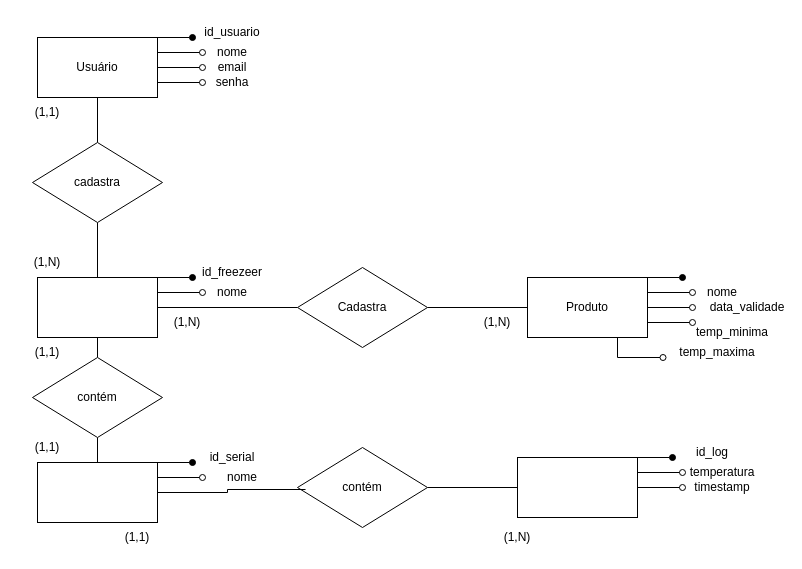
Image size: 802x569. Some labels were removed from this diagram. Each missing label, with the centre of its shape:
Freezer: the point at 97,307
Histórico Temperatura: the point at 577,487
sensor de temperatura: the point at 97,492
